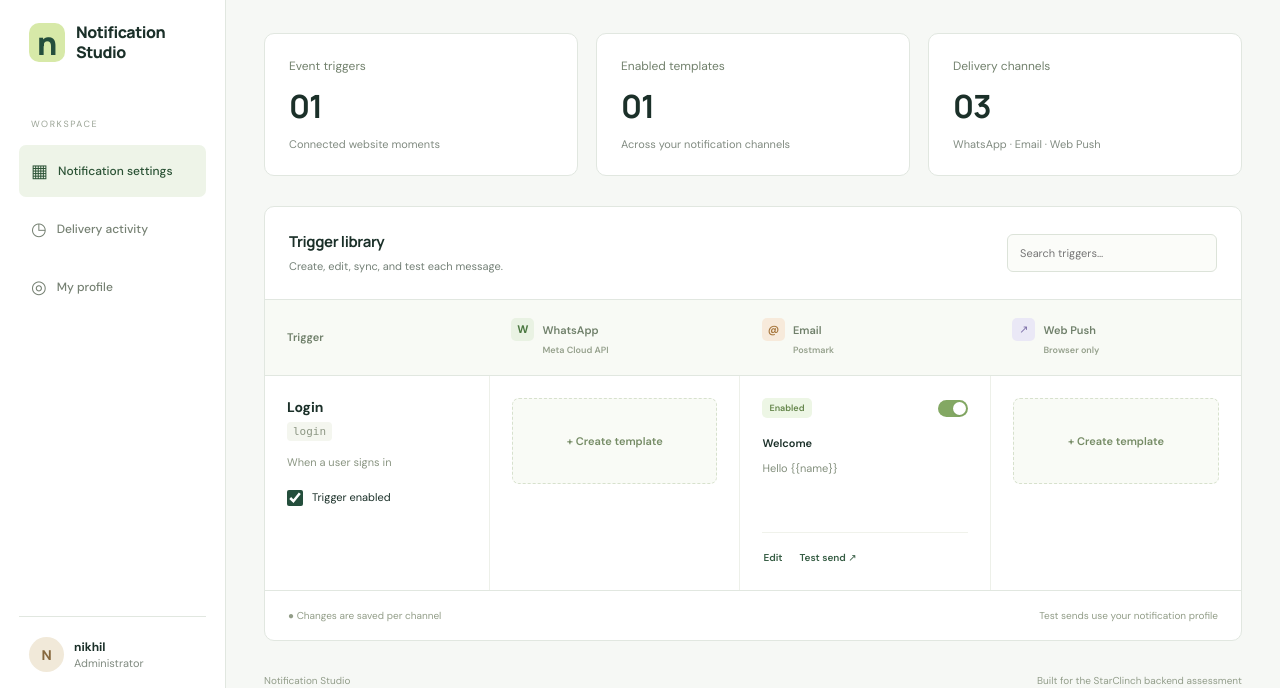
Test case: notification console › reports simulated sends without claiming delivery
The width and height of the screenshot is (1280, 688).
(page scrolled)
Expected: the switch is shown, [938,400,968,417]
Click the button "Test send ↗" at (828,558), box [799,547,858,568]
(page scrolled)
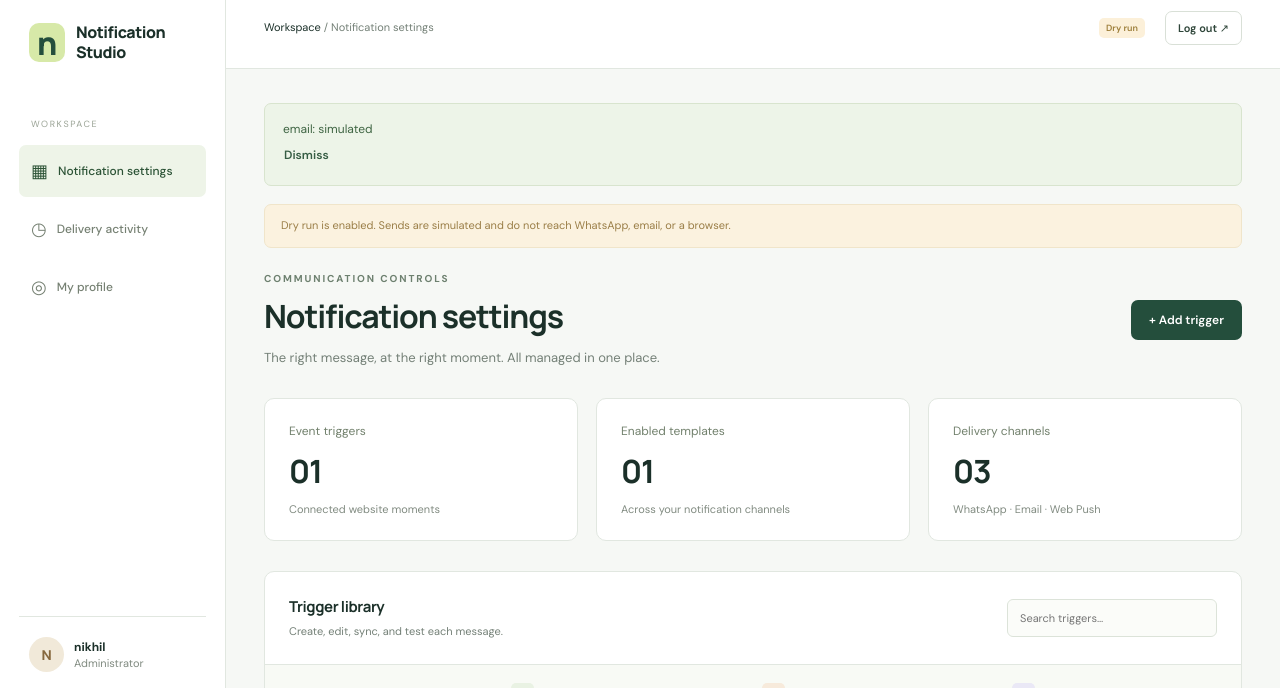
Now the text "email: simulated" is shown, box [283,121,373,137]
